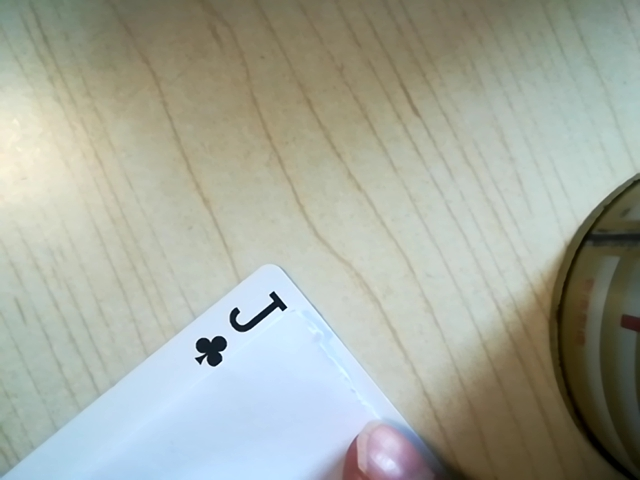mh j: (178, 288, 293, 367)
